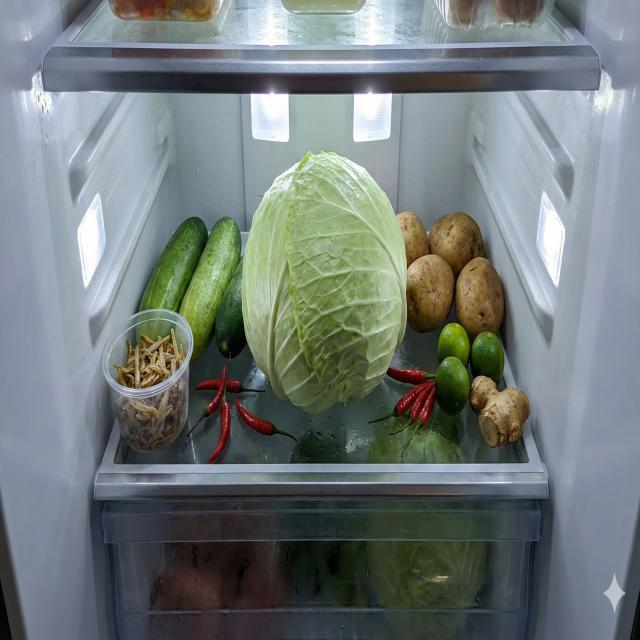anchovies: (113, 324, 189, 452)
cabbage: (241, 150, 408, 417)
chili: (187, 352, 298, 464), (368, 365, 435, 459)
cucumber: (136, 217, 247, 364)
ginger: (469, 375, 530, 448)
lime: (435, 322, 505, 417)
potato: (394, 210, 505, 342)
